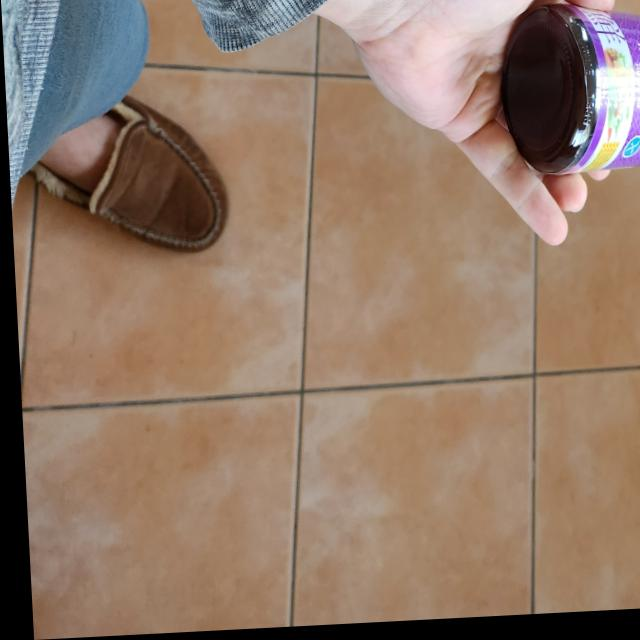hoison sauce: (498, 10, 640, 183)
